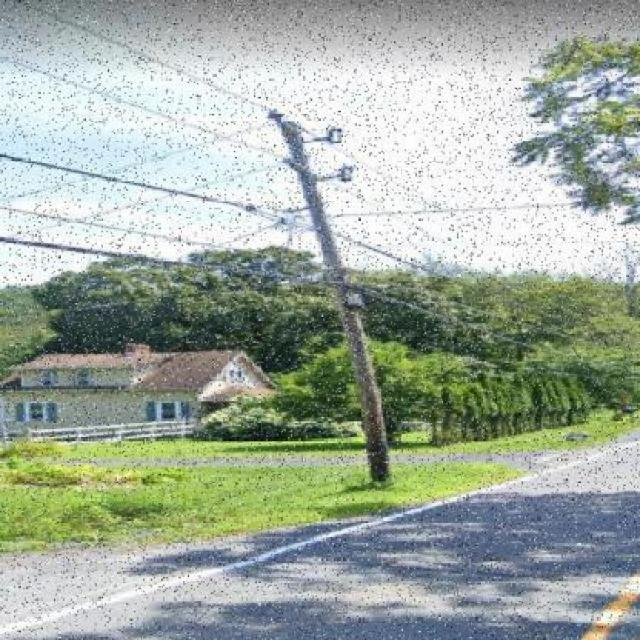pole: (180, 77, 480, 517)
